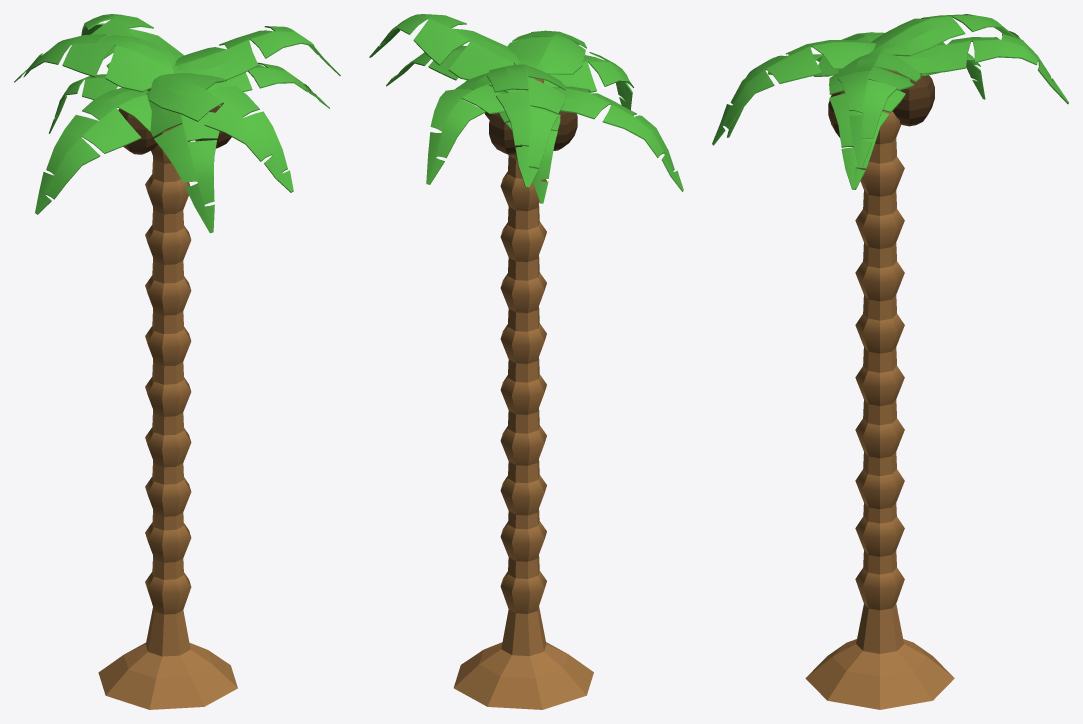
The model's file is Coconut_Tree.fbx.
3 views of the same model, side by side, from view 1: azimuth 30°, elevation 25°; view 2: azimuth 150°, elevation 25°; view 3: azimuth 270°, elevation 25° (orthographic). The views are drawn at different scales.
Parts seen in each view (by area): view 1: Palm_Tree_msh, Coconut_Tree_msh, Coconut03_msh; view 2: Coconut_Tree_msh, Palm_Tree_msh, Coconut02_msh, Coconut03_msh; view 3: Coconut_Tree_msh, Palm_Tree_msh, Coconut02_msh.
Part boxes in pixels (left/top/right/bottom): Palm_Tree_msh: left=14, top=14, right=340, bottom=233; Coconut_Tree_msh: left=98, top=89, right=237, bottom=709; Coconut03_msh: left=118, top=109, right=161, bottom=154; Coconut_Tree_msh: left=453, top=78, right=593, bottom=709; Palm_Tree_msh: left=369, top=14, right=683, bottom=203; Coconut02_msh: left=489, top=113, right=521, bottom=154; Coconut03_msh: left=553, top=111, right=577, bottom=150; Coconut_Tree_msh: left=805, top=69, right=954, bottom=709; Palm_Tree_msh: left=712, top=14, right=1068, bottom=189; Coconut02_msh: left=892, top=74, right=934, bottom=126.
Size of the model in its own units: 5.46 by 10.65 by 5.3.
